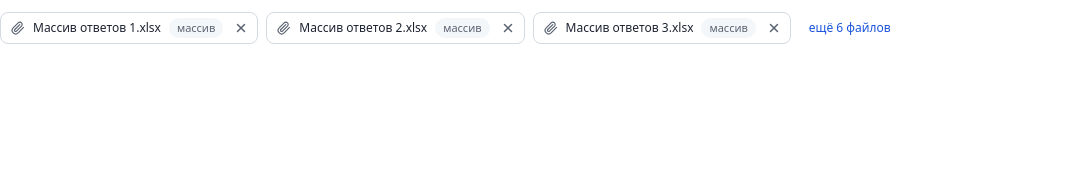
StagedFiles › folds 5+ files into the first three plus «ещё N файлов» and expands on click
Expected: the number of elements with test id "staged-file" is 3, [0,12,258,44]; [266,12,525,44]; [533,12,791,44]
Click the button "ещё 6 файлов". click: (850, 28)
box: [799,12,901,44]
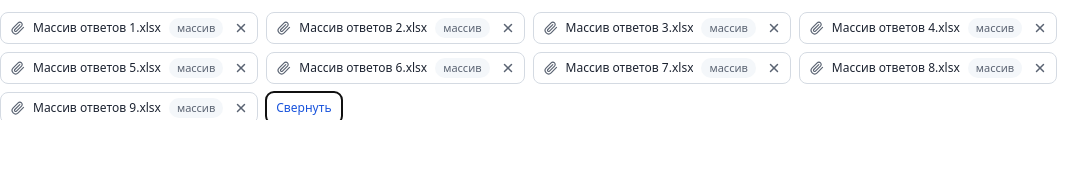
Expected: the number of elements with test id "staged-file" is 9
Click the button "Свернуть". click: (304, 108)
box: [266,92,342,124]
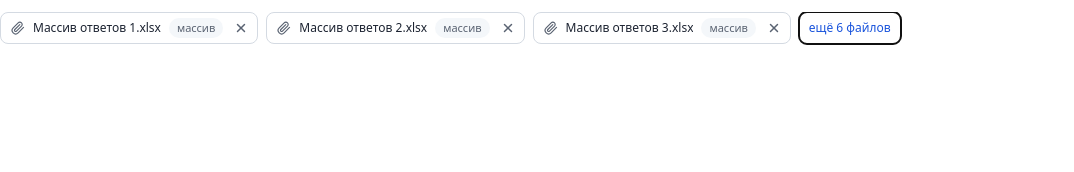
Expected: the number of elements with test id "staged-file" is 3, [0,12,258,44]; [266,12,525,44]; [533,12,791,44]
